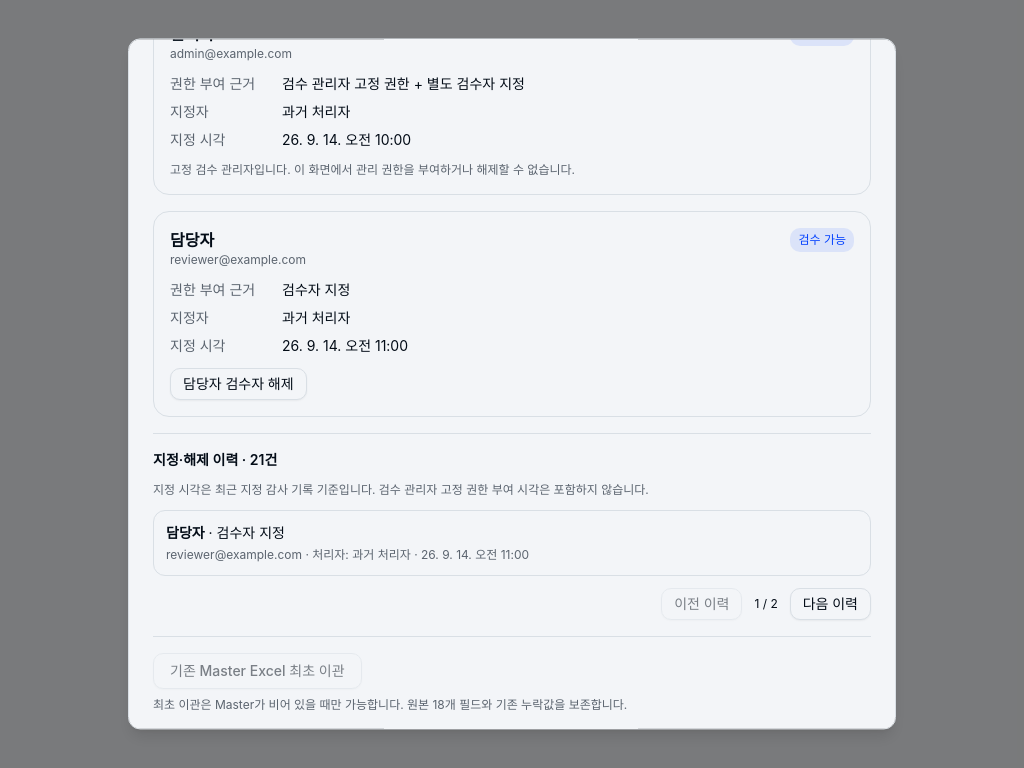
Scenario: refreshes after a conflict without claiming success, and paginates all audit events
(page scrolled)
Click the button "담당자 검수자 해제". click: (238, 384)
box: [170,368,306,400]
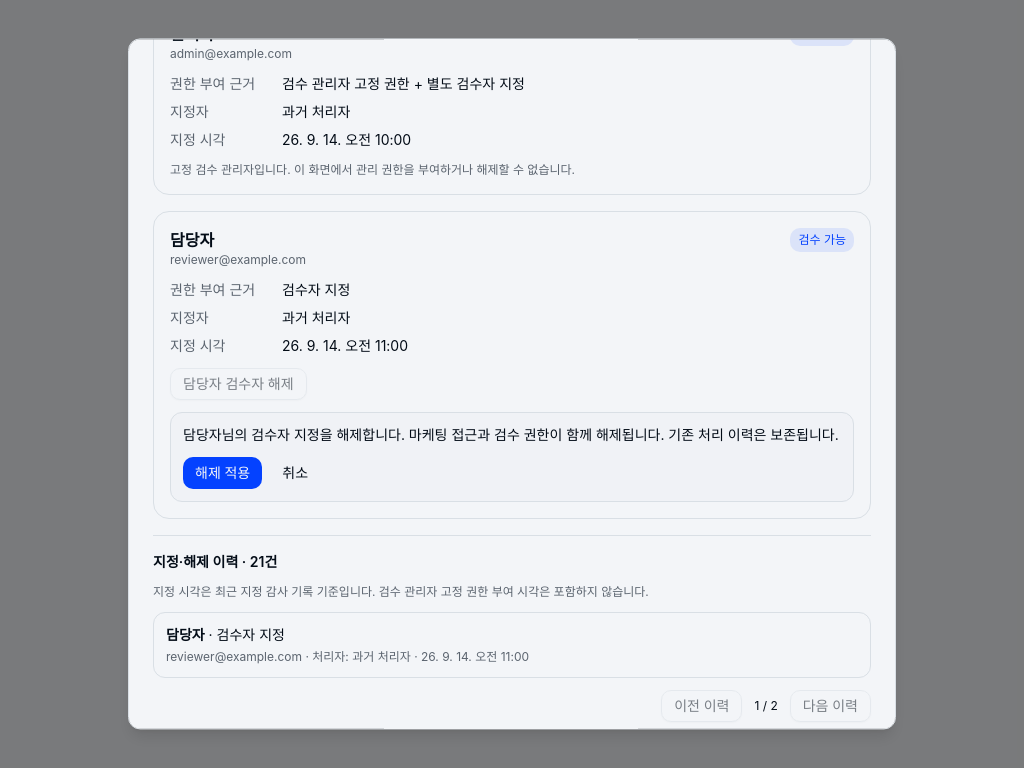
Click the button "해제 적용". click: (223, 473)
box: [183,457,262,489]
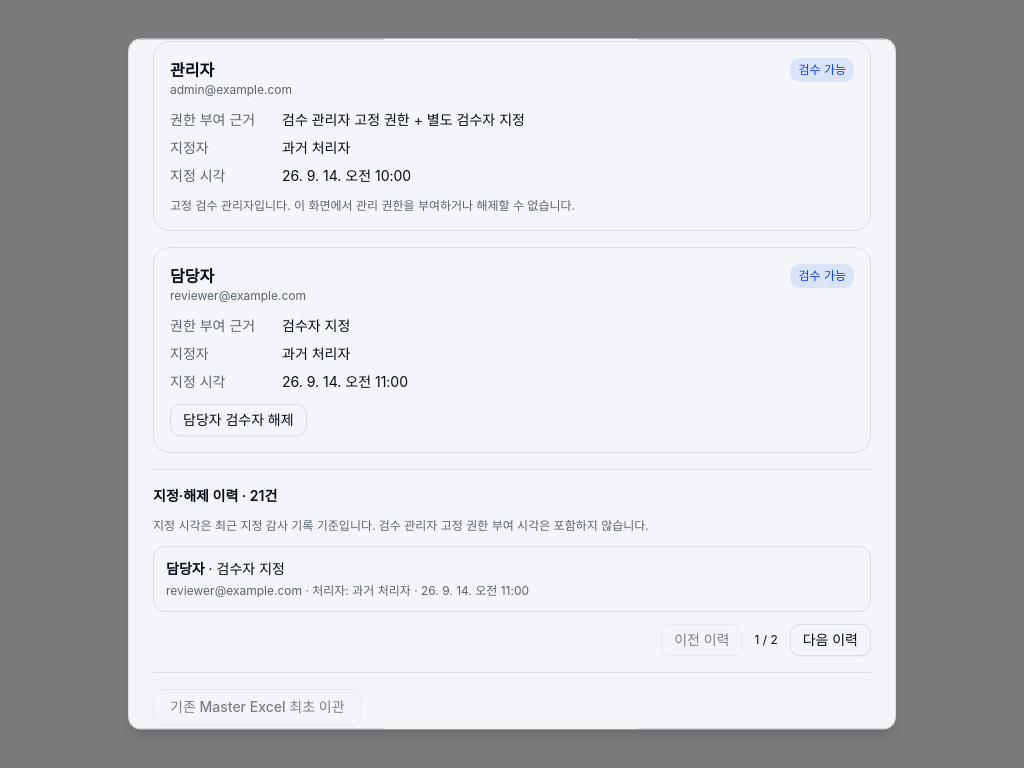
Check: the button "담당자 검수자 해제" is shown, box [170,404,306,436]
Click the button "다음 이력". click: (830, 640)
box: [790,624,871,656]
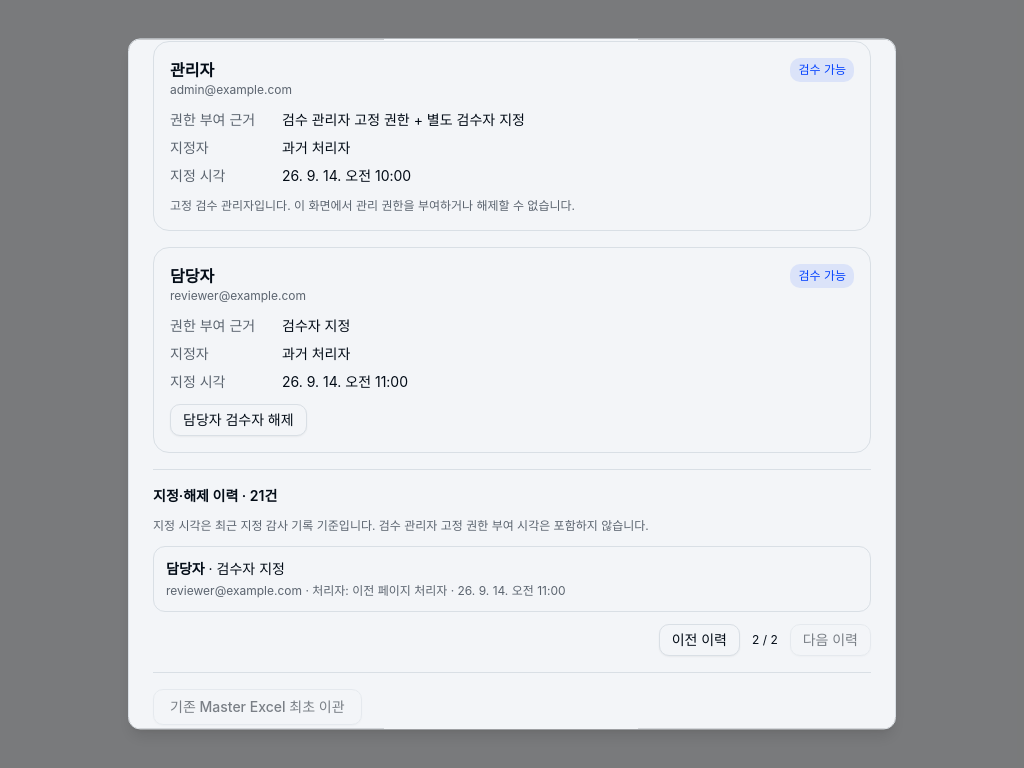
Check: the text "reviewer@example.com · 처리자: 이전 페이지 처리자 · 26. 9. 14. 오전 11:00" is shown, box [166,583,566,598]
